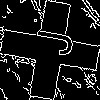J: (25, 25, 75, 58)
